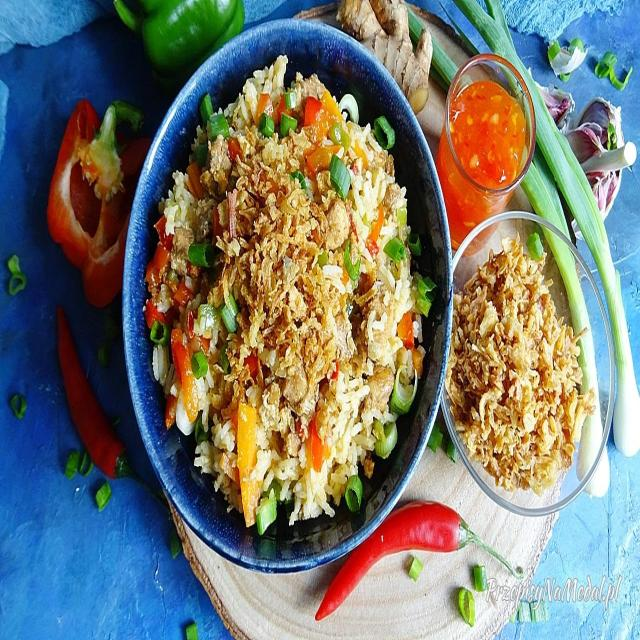Nasi Goreng: (143, 52, 430, 536)
